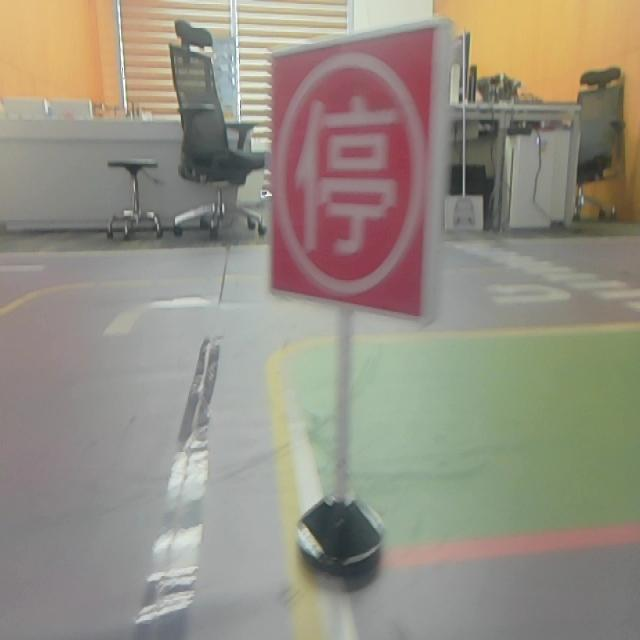left_lane: (0, 291, 33, 316)
right_lane: (266, 357, 356, 638)
